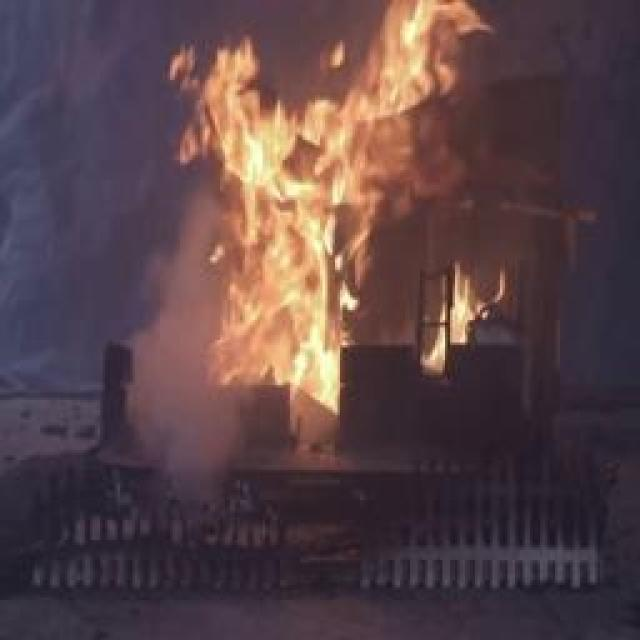fire: (156, 0, 532, 425)
